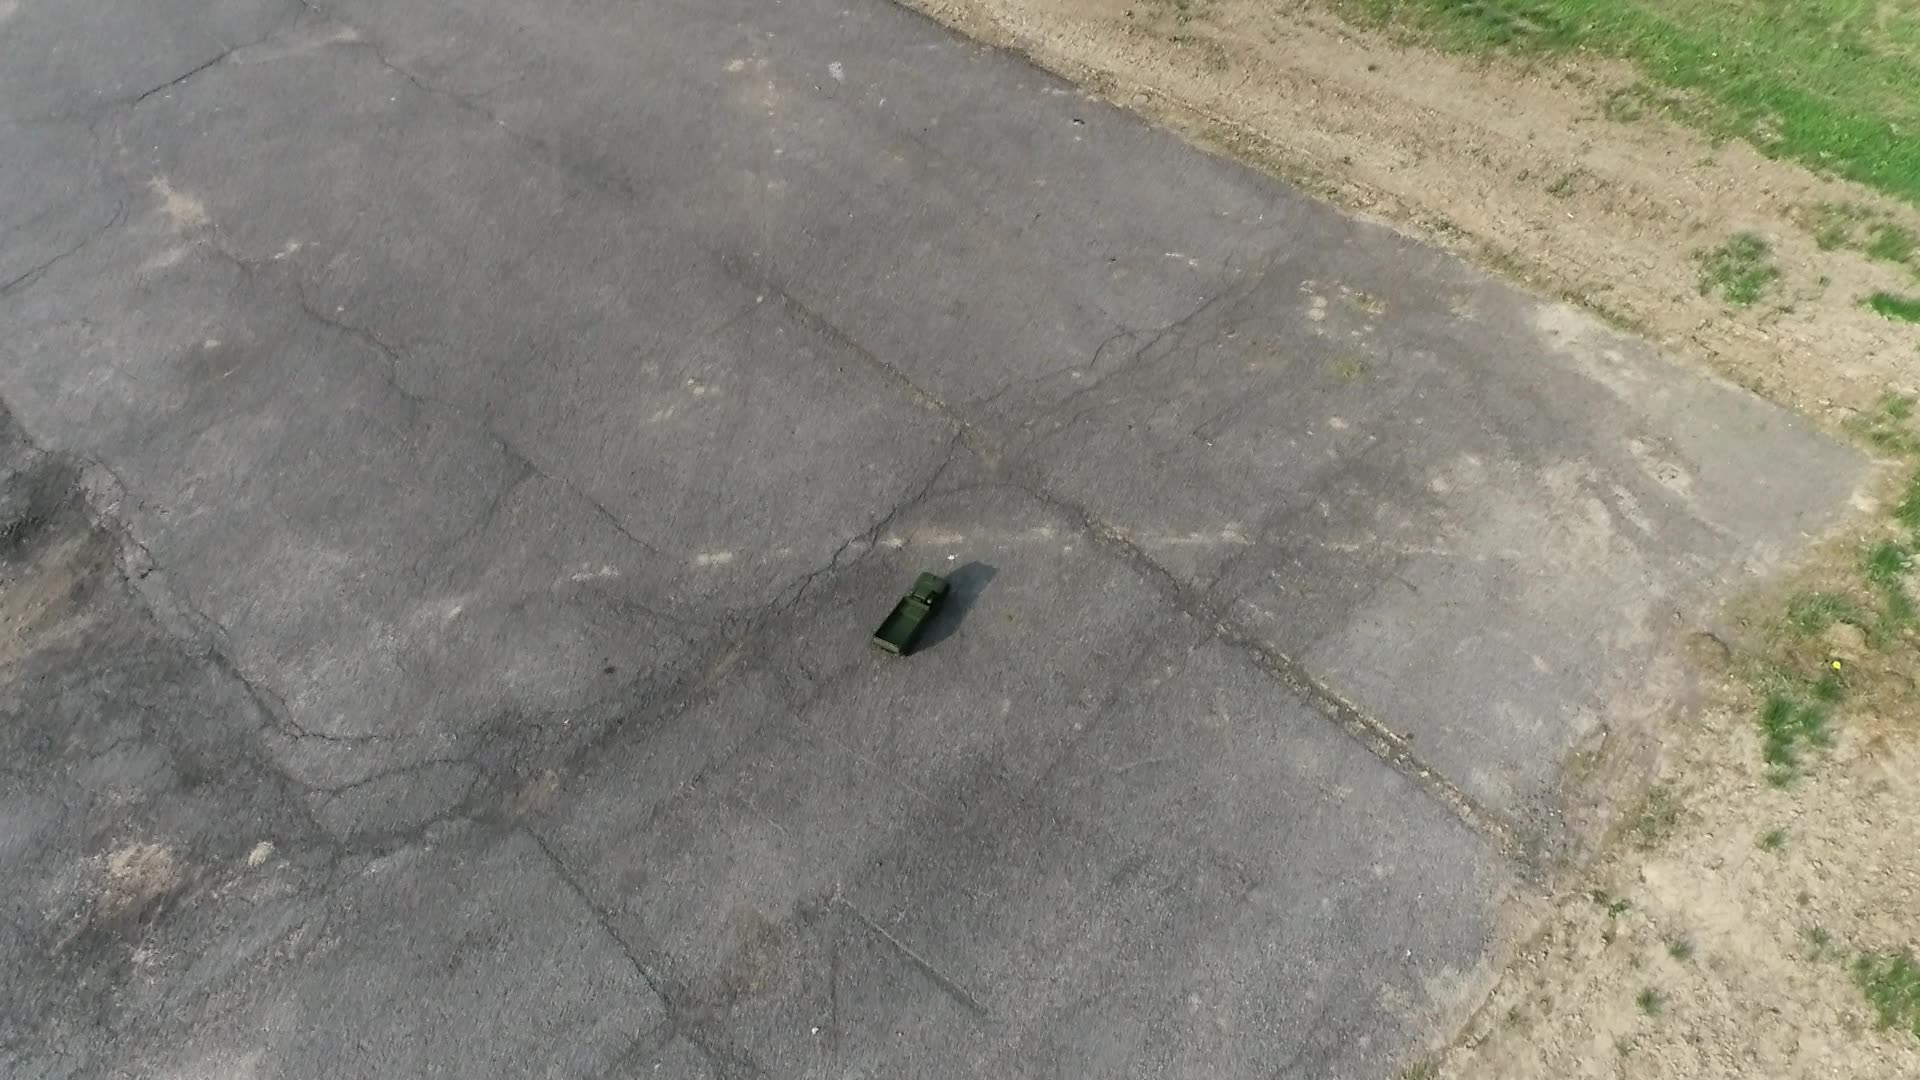transporter9: (860, 570, 952, 659)
